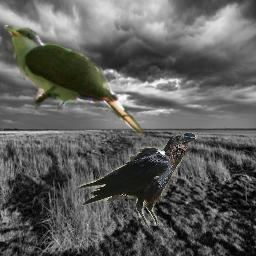Crow: (76, 132, 197, 226)
Cuckoo: (2, 25, 146, 135)
